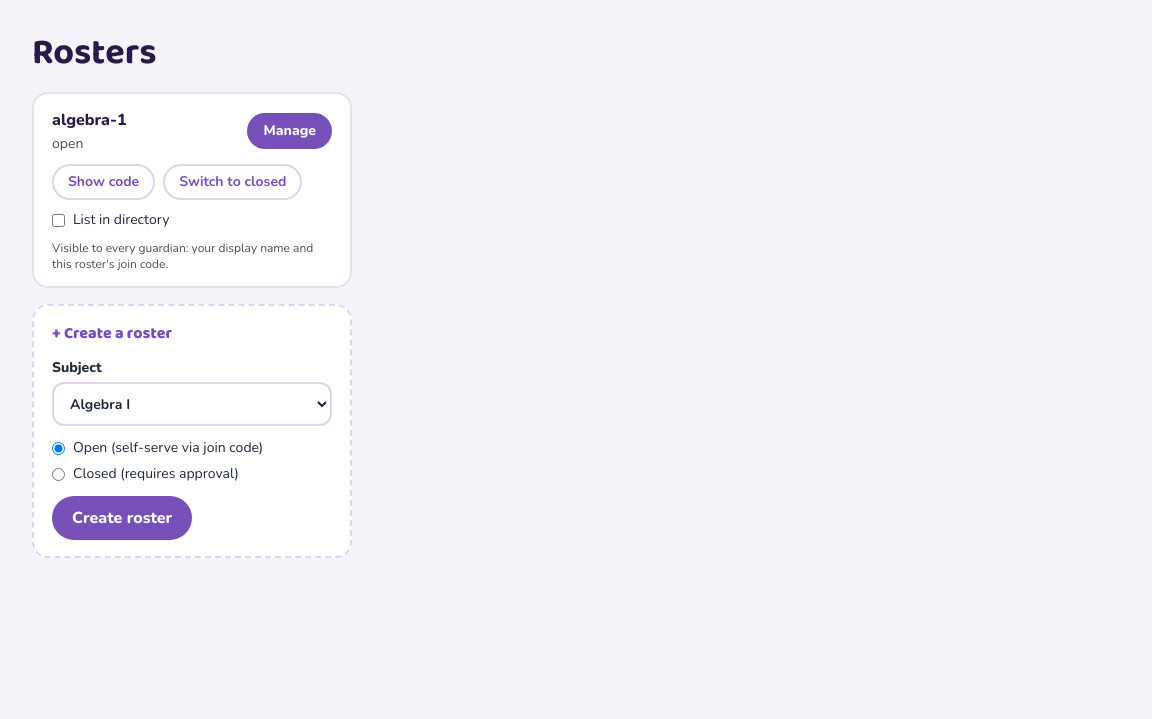
Scenario: RostersFlow per-assignment results view › shows an error without crashing when the results fetch fails
This screenshot has width=1152, height=719.
Click the button "Manage".
click(290, 131)  # box [248,113,332,149]
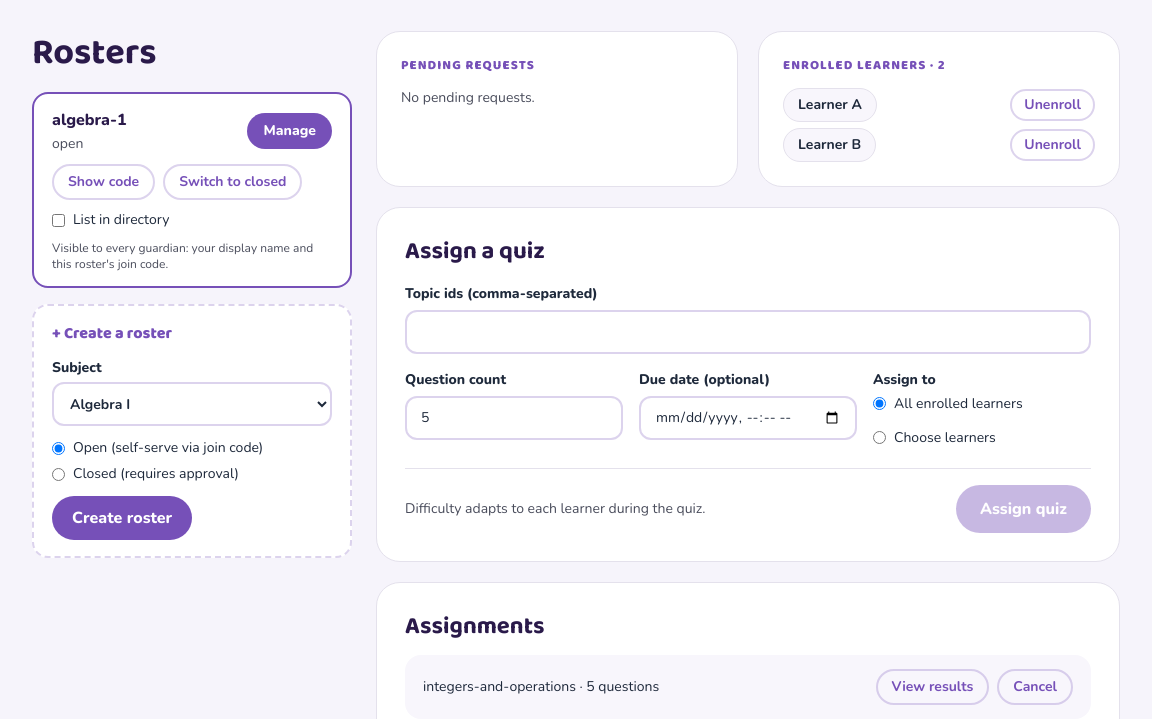
Click the button "View results".
click(932, 686)  # box [876,668,989,704]
(page scrolled)
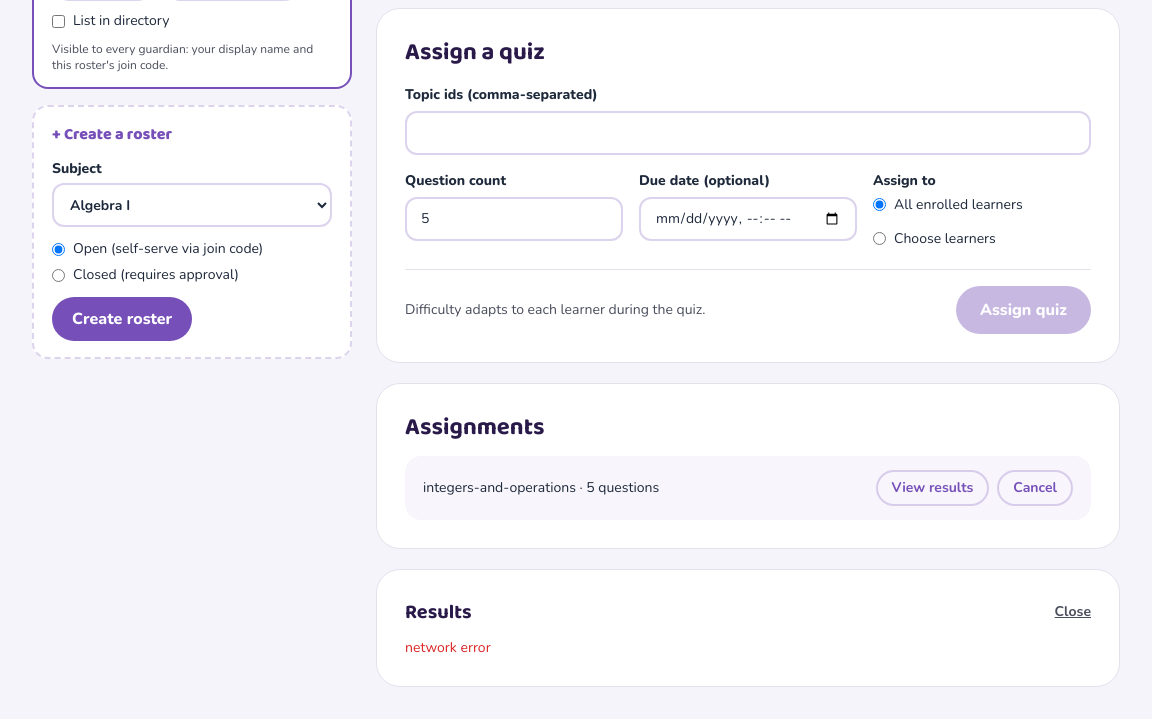
Check: the text with test id "assignment-results-error" reads "network error", box [405,638,491,656]
